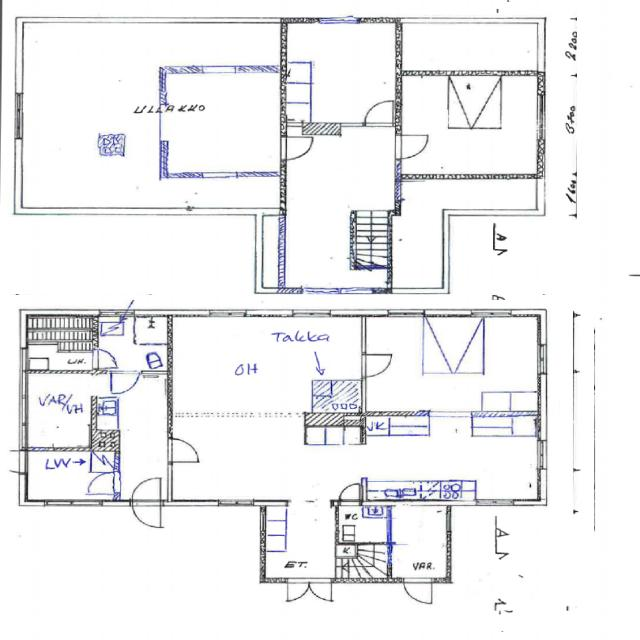door: (395, 134, 434, 159), (167, 438, 203, 462), (132, 476, 160, 506), (132, 499, 160, 528), (281, 136, 316, 159), (362, 354, 395, 378), (404, 577, 432, 605), (87, 472, 119, 494), (365, 100, 392, 126), (112, 370, 138, 395), (310, 577, 332, 600), (288, 577, 310, 600), (93, 351, 119, 368), (340, 484, 360, 506)
